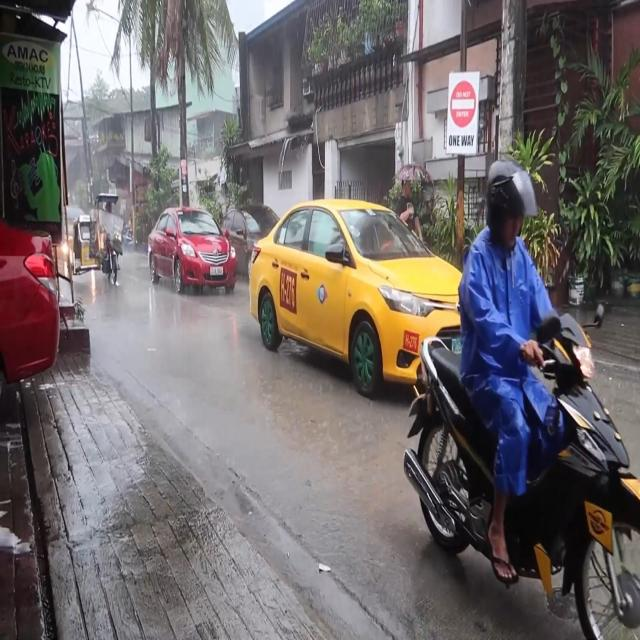half: (482, 158, 540, 255)
